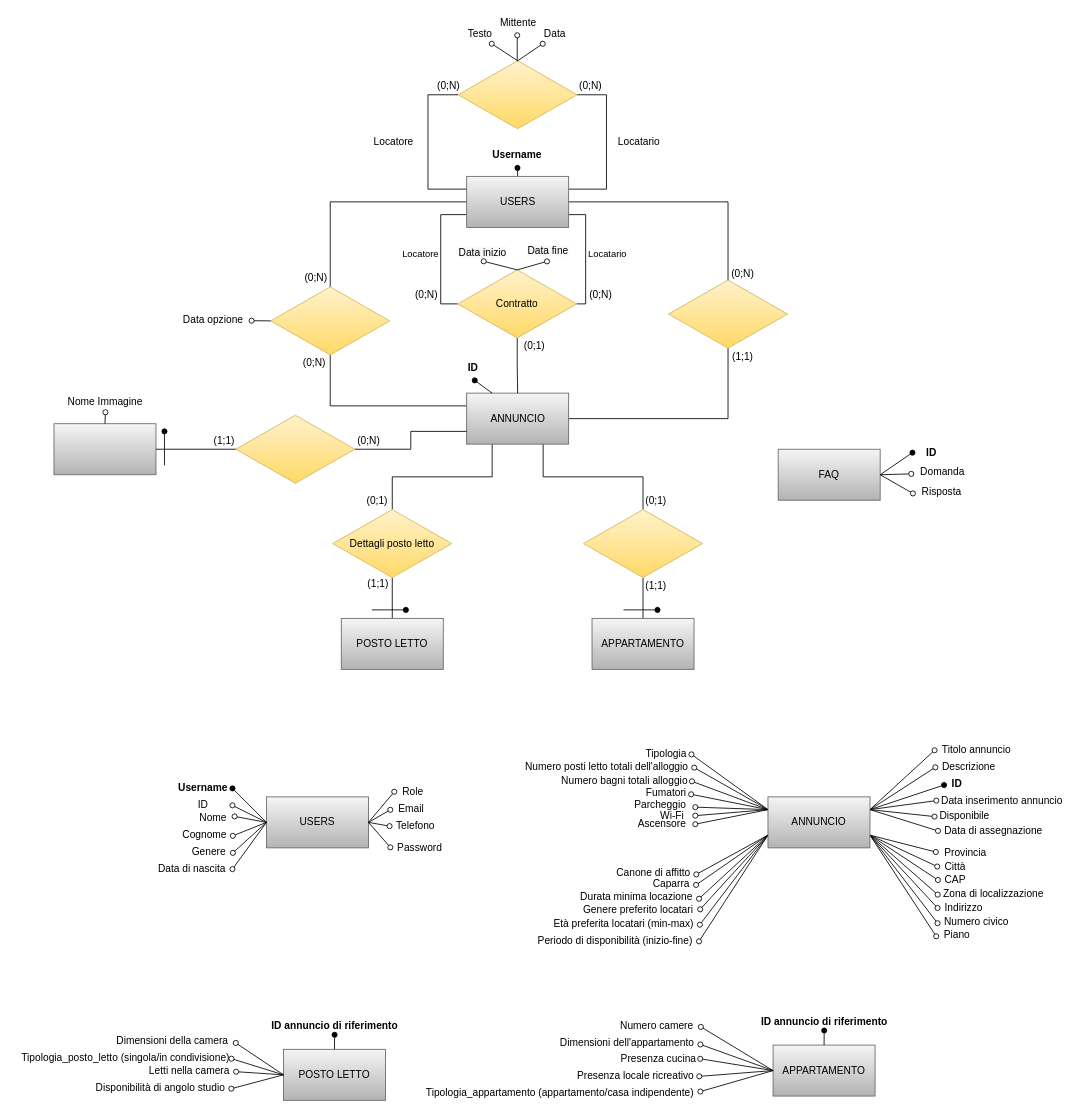
The diagram is 1084 pixels wide and 1115 high, and some of its shapes have lost their labels. Here are the shapes that lost their labels. From the top down, the centre of each, then its label:
At (517,94): "Messaggio".
At (330,320): "Opzione annuncio".
At (728,313): "Inserimento annuncio".
At (104,449): "IMMAGINE".
At (295,448): "Inserimento immagini".
At (643,543): "Dettagli appartamento".
